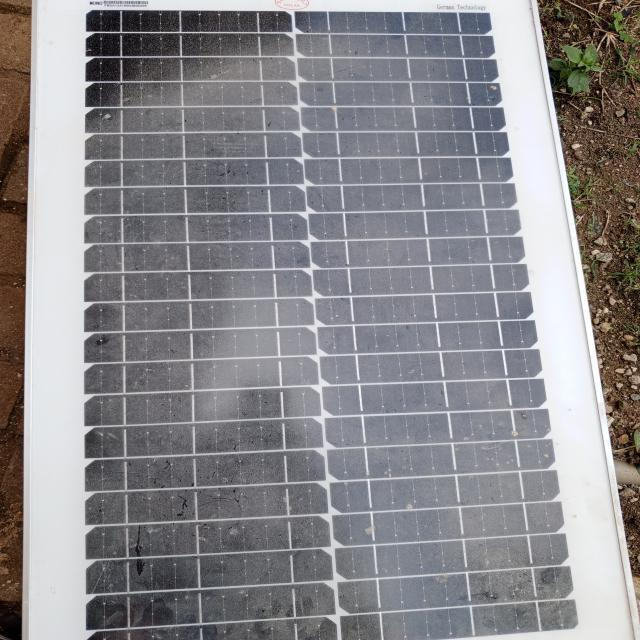Anomaly Solar Panel: (54, 5, 583, 639)
Surface Contaminant: (62, 4, 506, 639)
